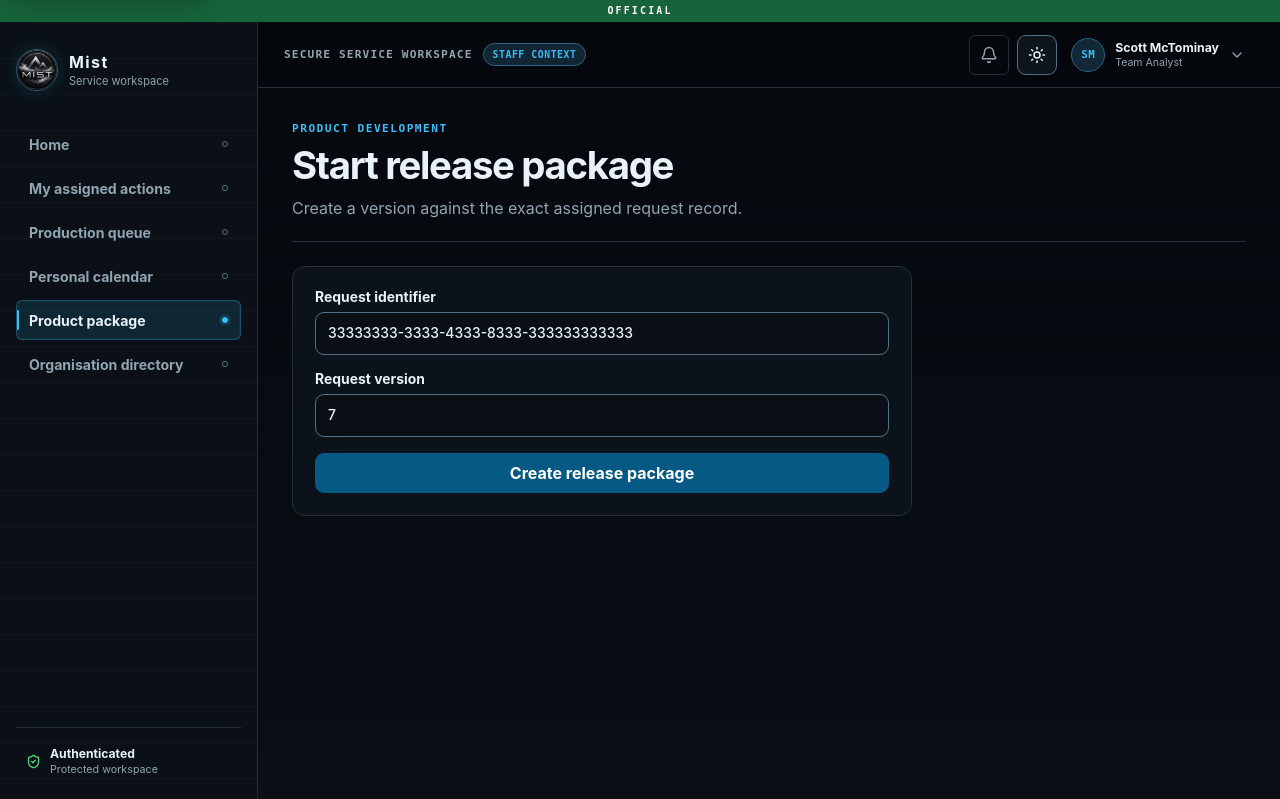
managed product authoring journey › creates a package against the assigned request version
Click the button "Create release package": (602, 473) left=315, top=453, right=889, bottom=493
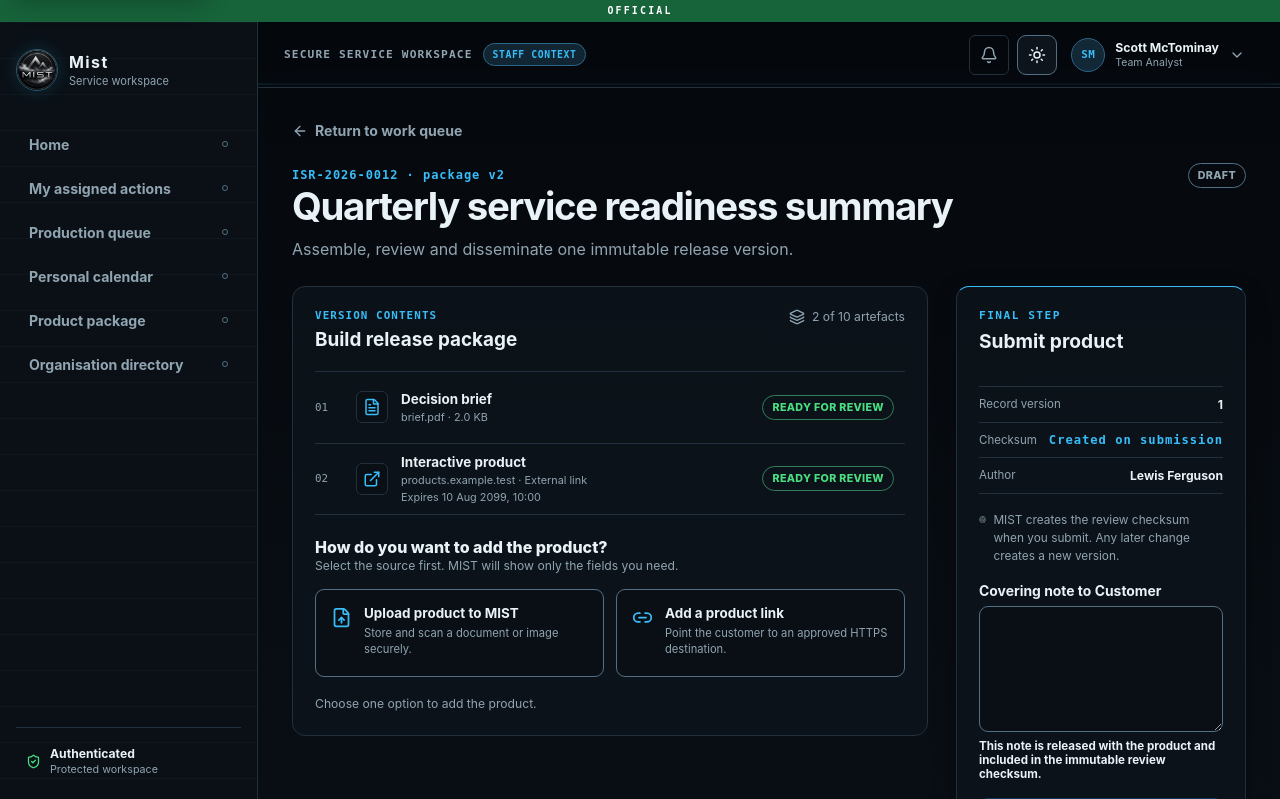
Check: the heading "Quarterly service readiness summary" is shown, box left=292, top=183, right=952, bottom=229
